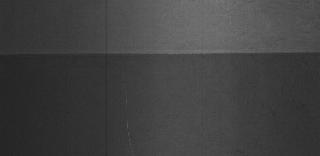welding line: (2, 48, 320, 62)
